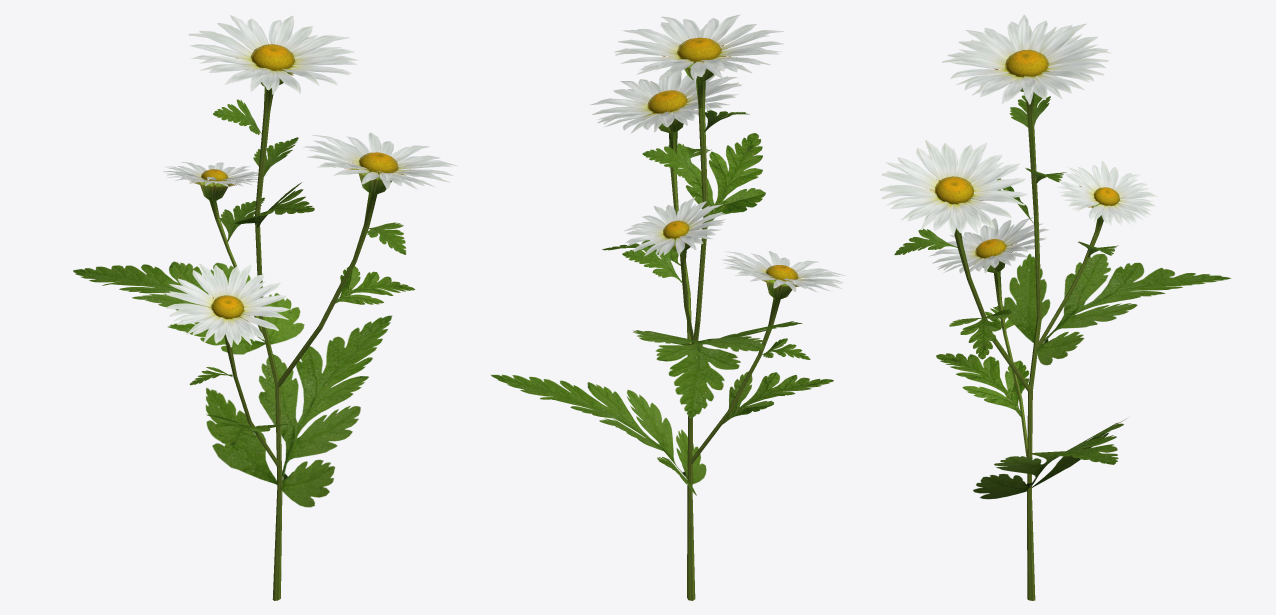
Rendered from marigold.glb.
The picture shows the model from 3 angles, left to right: view 1: azimuth 30°, elevation 25°; view 2: azimuth 150°, elevation 25°; view 3: azimuth 270°, elevation 25°; orthographic projection. The views are drawn at different scales.
Parts seen in each view (by area): view 1: leaf, petal, stem, pollen; view 2: leaf, petal, stem, pollen; view 3: petal, leaf, stem, pollen.
Boxes of the visible parts, box(x1,y1,x2,y2) form: leaf: box(73, 99, 415, 507); petal: box(163, 15, 457, 347); stem: box(190, 58, 410, 600); pollen: box(201, 44, 398, 319); leaf: box(490, 110, 833, 495); petal: box(589, 14, 845, 292); stem: box(643, 45, 800, 600); pollen: box(647, 37, 798, 281); petal: box(880, 14, 1158, 273); leaf: box(894, 92, 1231, 499); stem: box(929, 68, 1103, 600); pollen: box(934, 49, 1119, 258).
Bounding box in the file's own units: 1.25 × 1.79 × 1.13.
4 materials, 4 textured.
